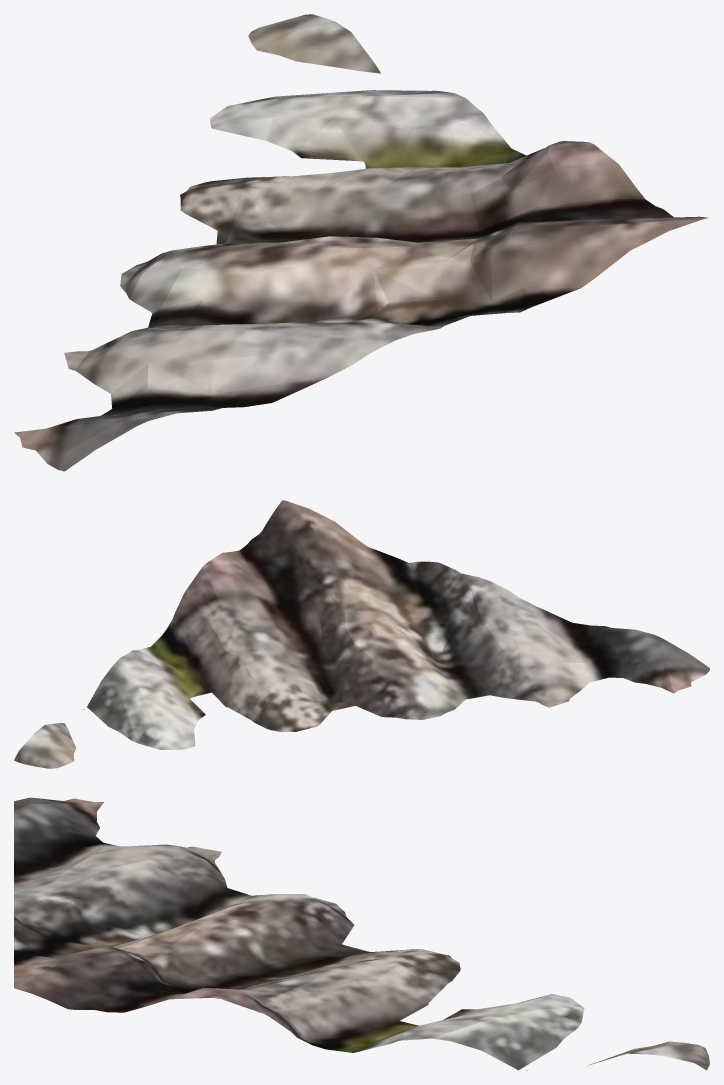
3 views of the same model, one above another, from view 1: azimuth 30°, elevation 25°; view 2: azimuth 150°, elevation 25°; view 3: azimuth 270°, elevation 25° (orthographic). The views are drawn at different scales.
Bounding box in the file's own units: 0.7666 × 0.1086 × 0.829.
Materials: 1 (1 with a texture image).
